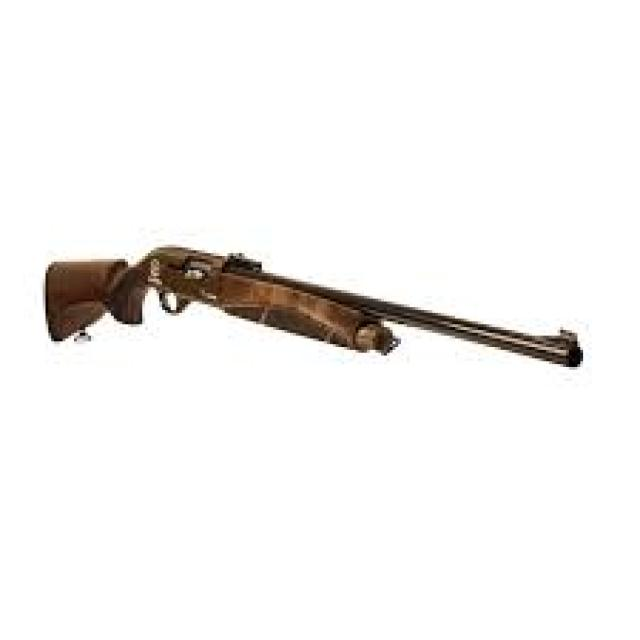rifle: (40, 239, 592, 386)
